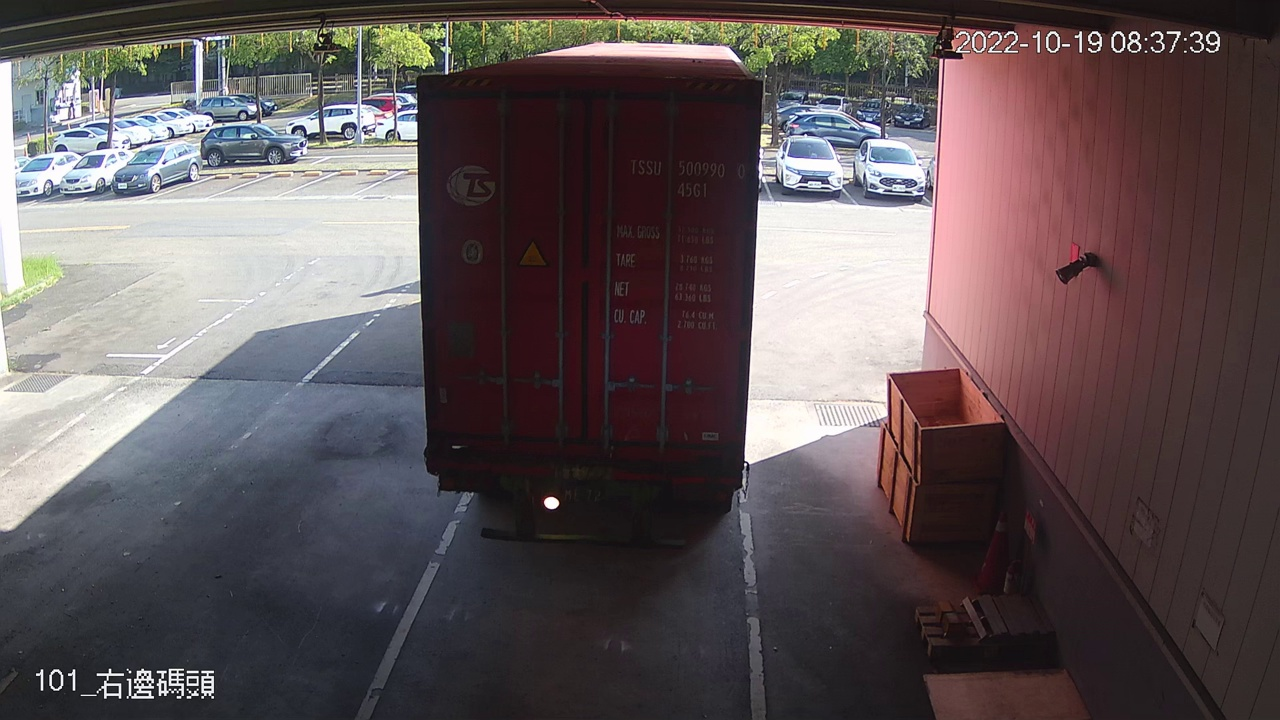container: (625, 149, 748, 203)
